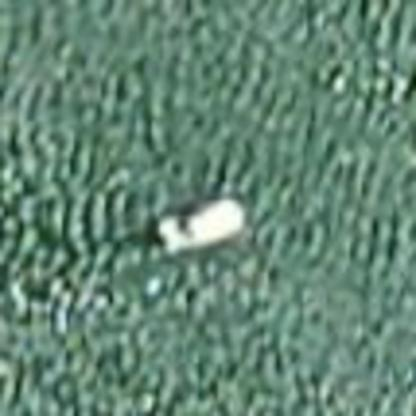ship: (149, 187, 251, 268)
